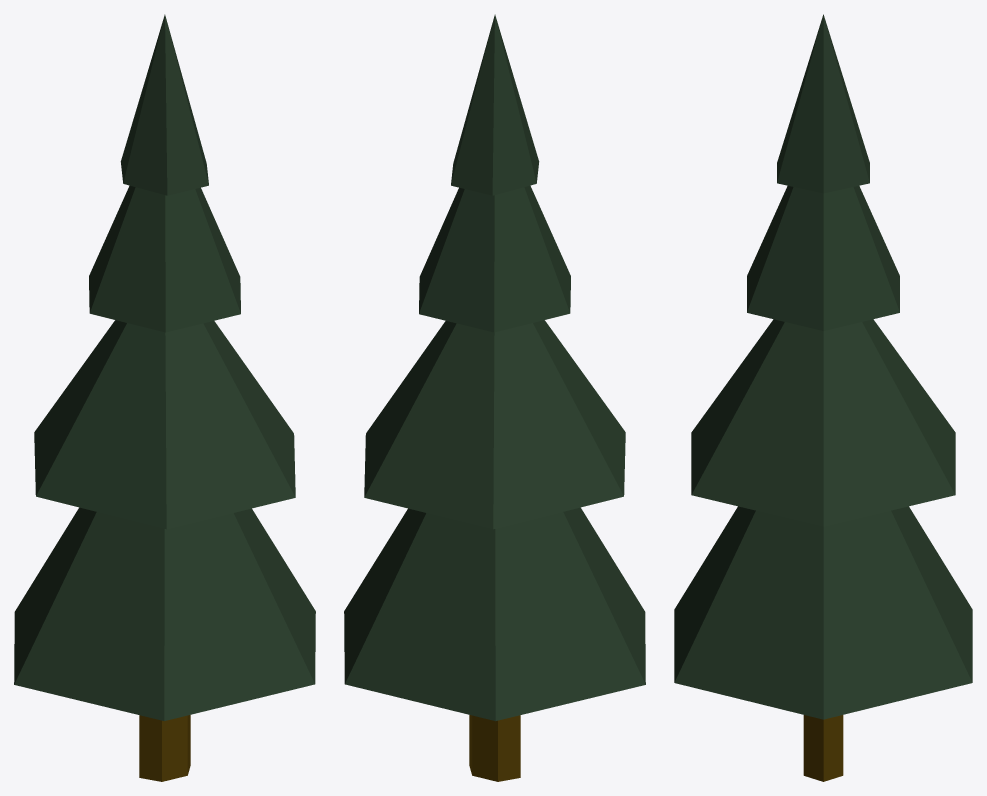
File: christmas tree.fbx
3 views of the same model, side by side, from view 1: azimuth 30°, elevation 25°; view 2: azimuth 150°, elevation 25°; view 3: azimuth 270°, elevation 25° (orthographic).
Visible parts, largest first — view 1: pCylinder2; view 2: pCylinder2; view 3: pCylinder2.
Part boxes in pixels (<box>): pCylinder2: <box>14,14,315,781</box>; pCylinder2: <box>344,14,645,781</box>; pCylinder2: <box>674,14,972,781</box>.
Size of the model in its own units: 7.78 by 18.67 by 6.68.
